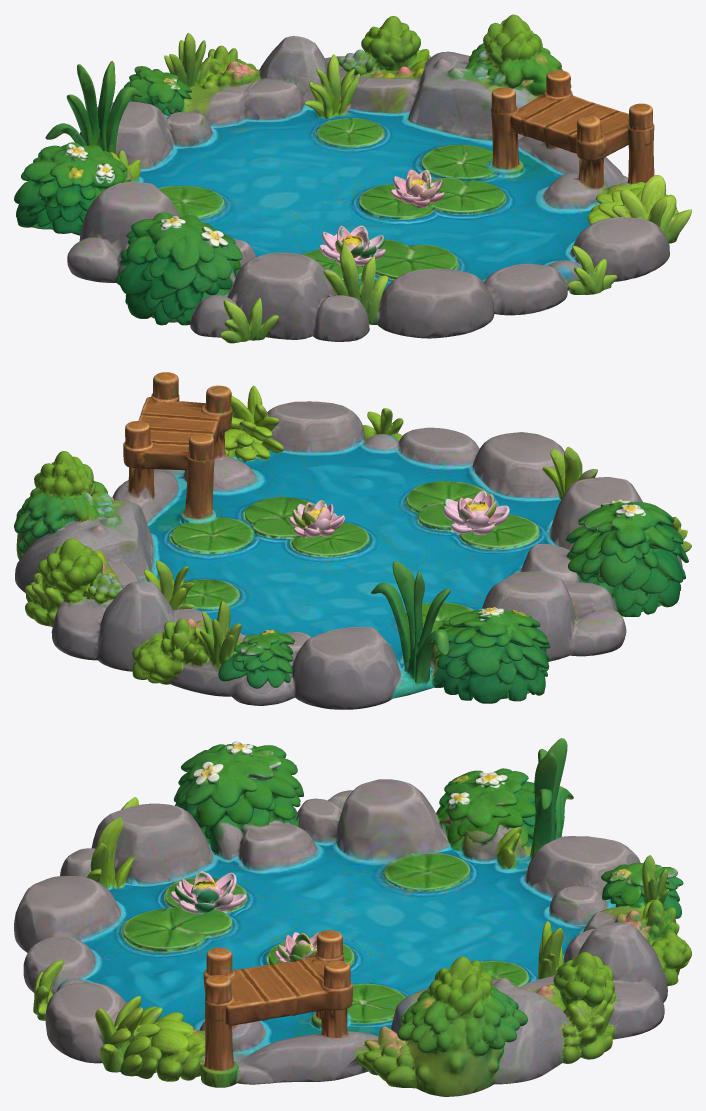
File: lake.glb
3 views of the same model, one above another, from view 1: azimuth 30°, elevation 25°; view 2: azimuth 150°, elevation 25°; view 3: azimuth 270°, elevation 25° (orthographic). The views are drawn at different scales.
Bounding box in the file's own units: 1.9 × 0.3974 × 1.9.
Materials: 1 (1 with a texture image).
